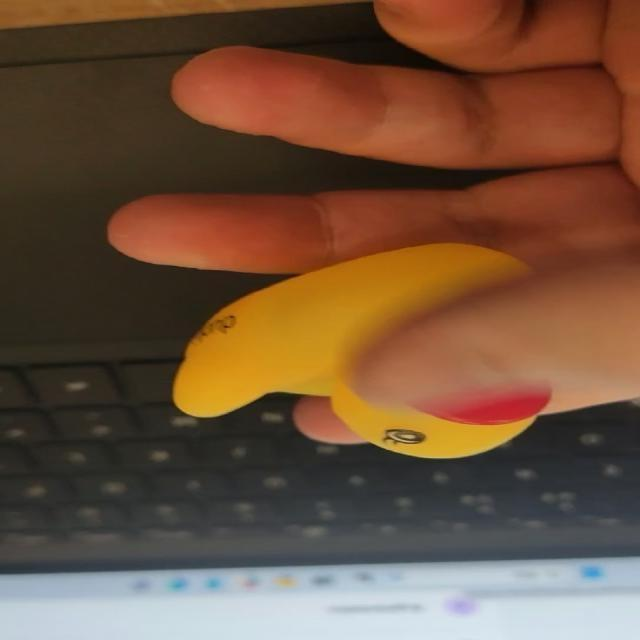rubber-duck: (172, 242, 536, 456)
